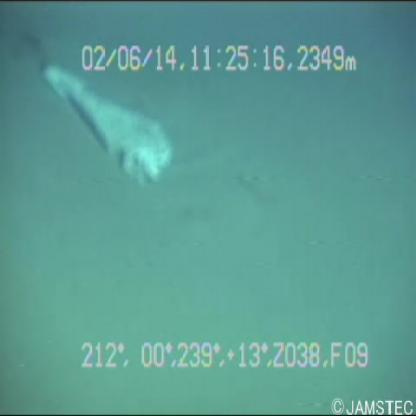Rác: (28, 47, 178, 188)
